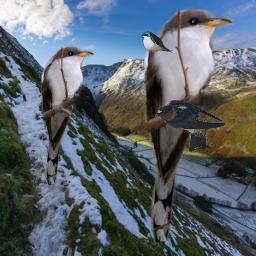Cuckoo: (142, 7, 233, 242), (40, 45, 94, 185)
Swallow: (155, 99, 226, 152), (141, 31, 173, 53)
